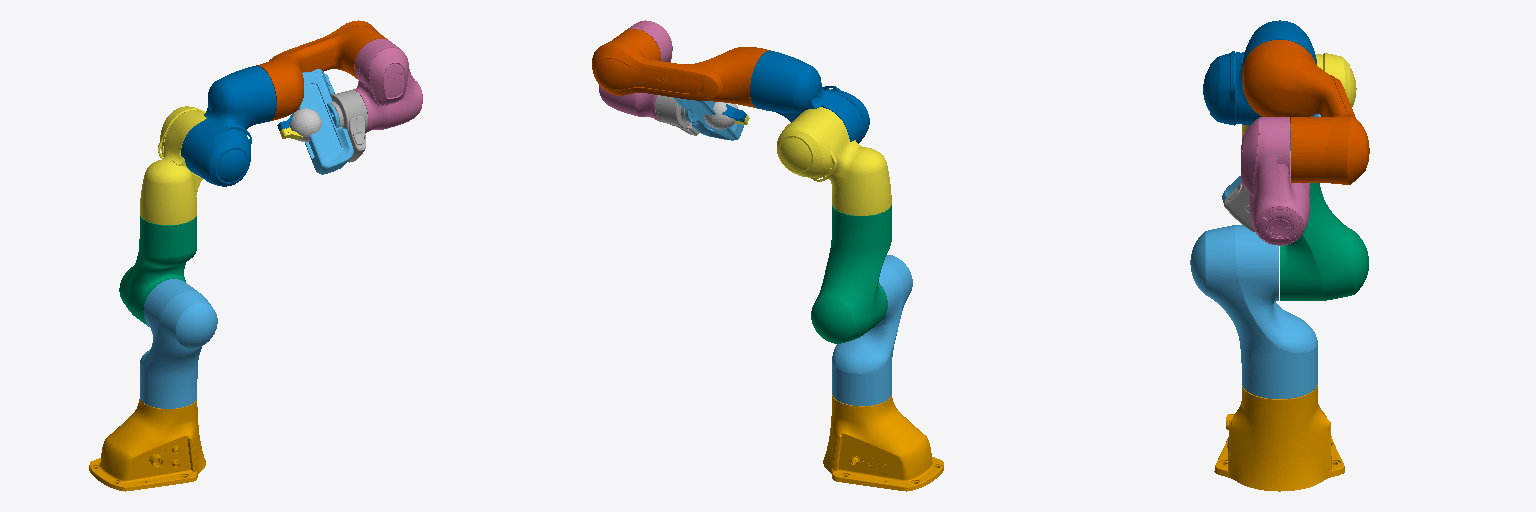
URDF robot description (panda):
<?xml version="1.0" ?>
<!-- =================================================================================== -->
<!-- |    This document was autogenerated by xacro from franka_ros/franka_description/robots/panda/panda.urdf.xacro | -->
<!-- |    EDITING THIS FILE BY HAND IS NOT RECOMMENDED                                 | -->
<!-- =================================================================================== -->
<robot name="panda" xmlns:xacro="http://www.ros.org/wiki/xacro">
    <link name="panda_link0">
        <visual>
            <geometry>
                <mesh filename="package://meshes/visual/link0.stl" />
            </geometry>
        </visual>
        <collision>
            <geometry>
                <mesh filename="package://meshes/collision/link0.stl" />
            </geometry>
        </collision>
        <inertial>
            <origin rpy="0 0 0" xyz="-0.041018 -0.00014 0.049974"/>
            <mass value="0.629769"/>
            <inertia ixx="0.00315" ixy="8.2904e-07" ixz="0.00015" iyy="0.00388" iyz="8.2299e-06" izz="0.004285"/>
        </inertial>
    </link>
    <link name="panda_link1">
        <visual>
            <geometry>
                <mesh filename="package://meshes/visual/link1.stl" />
            </geometry>
        </visual>
        <collision>
            <geometry>
                <mesh filename="package://meshes/collision/link1.stl" />
            </geometry>
        </collision>
        <inertial>
            <origin rpy="0 0 0" xyz="0.003875 0.002081 -0.04762"/>
            <mass value="4.970684"/>
            <inertia ixx="0.70337" ixy="-0.000139" ixz="0.006772" iyy="0.70661" iyz="0.019169" izz="0.009117"/>
        </inertial>
    </link>
    <joint name="panda_joint1" type="revolute">
        <origin rpy="0 0 0" xyz="0 0 0.333"/>
        <parent link="panda_link0"/>
        <child link="panda_link1"/>
        <axis xyz="0 0 1"/>
        <limit effort="87.0" lower="-2.8973" upper="2.8973" velocity="2.175"/>
        <safety_controller k_position="100.0" k_velocity="40.0" soft_lower_limit="-2.8973" soft_upper_limit="2.8973"/>
        <dynamics D="1" K="7000" damping="0.003" friction="0.0" mu_coulomb="0" mu_viscous="16"/>
    </joint>
    <link name="panda_link2">
        <visual>
            <geometry>
                <mesh filename="package://meshes/visual/link2.stl" />
            </geometry>
        </visual>
        <collision>
            <geometry>
                <mesh filename="package://meshes/collision/link2.stl" />
            </geometry>
        </collision>
        <inertial>
            <origin rpy="0 0 0" xyz="-0.003141 -0.02872  0.003495"/>
            <mass value="0.646926"/>
            <inertia ixx="0.007962" ixy="-0.003925" ixz="0.010254" iyy="0.02811" iyz="0.000704" izz="0.025995"/>
        </inertial>
    </link>
    <joint name="panda_joint2" type="revolute">
        <origin rpy="-1.5707963267948966 0 0" xyz="0 0 0"/>
        <parent link="panda_link1"/>
        <child link="panda_link2"/>
        <axis xyz="0 0 1"/>
        <limit effort="87.0" lower="-1.7628" upper="1.7628" velocity="2.175"/>
        <safety_controller k_position="100.0" k_velocity="40.0" soft_lower_limit="-1.7628" soft_upper_limit="1.7628"/>
        <dynamics D="1" K="7000" damping="0.003" friction="0.0" mu_coulomb="0" mu_viscous="16"/>
    </joint>
    <link name="panda_link3">
        <visual>
            <geometry>
                <mesh filename="package://meshes/visual/link3.stl" />
            </geometry>
        </visual>
        <collision>
            <geometry>
                <mesh filename="package://meshes/collision/link3.stl" />
            </geometry>
        </collision>
        <inertial>
            <origin rpy="0 0 0" xyz="2.7518e-02 3.9252e-02 -6.6502e-02"/>
            <mass value="3.228604"/>
            <inertia ixx="0.037242" ixy="-0.004761" ixz="-0.011396" iyy="0.036155" iyz="-0.012805" izz="0.01083"/>
        </inertial>
    </link>
    <joint name="panda_joint3" type="revolute">
        <origin rpy="1.5707963267948966 0 0" xyz="0 -0.316 0"/>
        <parent link="panda_link2"/>
        <child link="panda_link3"/>
        <axis xyz="0 0 1"/>
        <limit effort="87.0" lower="-2.8973" upper="2.8973" velocity="2.175"/>
        <safety_controller k_position="100.0" k_velocity="40.0" soft_lower_limit="-2.8973" soft_upper_limit="2.8973"/>
        <dynamics D="1" K="7000" damping="0.003" friction="0.0" mu_coulomb="0" mu_viscous="16"/>
    </joint>
    <link name="panda_link4">
        <visual>
            <geometry>
                <mesh filename="package://meshes/visual/link4.stl"/>
            </geometry>
        </visual>
        <collision>
            <geometry>
                <mesh filename="package://meshes/collision/link4.stl"/>
            </geometry>
        </collision>
        <inertial>
            <origin rpy="0 0 0" xyz="-5.317e-02 1.04419e-01 2.7454e-02"/>
            <mass value="3.587895"/>
            <inertia ixx="0.025853" ixy="0.007796" ixz="-0.001332" iyy="0.019552" iyz="0.008641" izz="0.028323"/>
        </inertial>
    </link>
    <joint name="panda_joint4" type="revolute">
        <origin rpy="1.5707963267948966 0 0" xyz="0.0825 0 0"/>
        <parent link="panda_link3"/>
        <child link="panda_link4"/>
        <axis xyz="0 0 1"/>
        <limit effort="87.0" lower="-3.0718" upper="-0.0698" velocity="2.175"/>
        <safety_controller k_position="100.0" k_velocity="40.0" soft_lower_limit="-3.0718" soft_upper_limit="-0.0698"/>
        <dynamics D="1" K="7000" damping="0.003" friction="0.0" mu_coulomb="0" mu_viscous="16"/>
    </joint>
    <link name="panda_link5">
        <visual>
            <geometry>
                <mesh filename="package://meshes/visual/link5.stl" />
            </geometry>
        </visual>
        <collision>
            <geometry>
                <mesh filename="package://meshes/collision/link5.stl" />
            </geometry>
        </collision>
        <inertial>
            <origin rpy="0 0 0" xyz="-1.1953e-02 4.1065e-02 -3.8437e-02"/>
            <mass value="1.225946"/>
            <inertia ixx="0.035549" ixy="-0.002117" ixz="-0.004037" iyy="0.029474" iyz="0.000229" izz="0.008627"/>
        </inertial>
    </link>
    <joint name="panda_joint5" type="revolute">
        <origin rpy="-1.5707963267948966 0 0" xyz="-0.0825 0.384 0"/>
        <parent link="panda_link4"/>
        <child link="panda_link5"/>
        <axis xyz="0 0 1"/>
        <limit effort="12.0" lower="-2.8973" upper="2.8973" velocity="2.61"/>
        <safety_controller k_position="100.0" k_velocity="40.0" soft_lower_limit="-2.8973" soft_upper_limit="2.8973"/>
        <dynamics D="1" K="7000" damping="0.003" friction="0.0" mu_coulomb="0" mu_viscous="16"/>
    </joint>
    <link name="panda_link6">
        <visual>
            <geometry>
                <mesh filename="package://meshes/visual/link6.stl" />
            </geometry>
        </visual>
        <collision>
            <geometry>
                <mesh filename="package://meshes/collision/link6.stl" />
            </geometry>
        </collision>
        <inertial>
            <origin rpy="0 0 0" xyz="6.0149e-02 -1.4117e-02 -1.0517e-02"/>
            <mass value="1.666555"/>
            <inertia ixx="0.001964" ixy="0.000109" ixz="-0.001158" iyy="0.004354" iyz="0.000341" izz="0.005433"/>
        </inertial>
    </link>
    <joint name="panda_joint6" type="revolute">
        <origin rpy="1.5707963267948966 0 0" xyz="0 0 0"/>
        <parent link="panda_link5"/>
        <child link="panda_link6"/>
        <axis xyz="0 0 1"/>
        <limit effort="12.0" lower="-0.0175" upper="3.7525" velocity="2.61"/>
        <safety_controller k_position="100.0" k_velocity="40.0" soft_lower_limit="-0.0175" soft_upper_limit="3.7525"/>
        <dynamics D="1" K="7000" damping="0.003" friction="0.0" mu_coulomb="0" mu_viscous="16"/>
    </joint>
    <link name="panda_link7">
        <visual>
            <geometry>
                <mesh filename="package://meshes/visual/link7.stl" />
            </geometry>
        </visual>
        <collision>
            <geometry>
                <mesh filename="package://meshes/collision/link7.stl" />
            </geometry>
        </collision>
        <inertial>
            <origin rpy="0 0 0" xyz="1.0517e-02 -4.252e-03 6.1597e-02"/>
            <mass value="0.735522"/>
            <inertia ixx="0.012516" ixy="-0.000428" ixz="-0.001196" iyy="0.010027" iyz="-0.000741" izz="0.004815"/>
        </inertial>
    </link>
    <joint name="panda_joint7" type="revolute">
        <origin rpy="1.5707963267948966 0 0" xyz="0.088 0 0"/>
        <parent link="panda_link6"/>
        <child link="panda_link7"/>
        <axis xyz="0 0 1"/>
        <limit effort="12.0" lower="-2.8973" upper="2.8973" velocity="2.61"/>
        <safety_controller k_position="100.0" k_velocity="40.0" soft_lower_limit="-2.8973" soft_upper_limit="2.8973"/>
        <dynamics D="1" K="7000" damping="0.003" friction="0.0" mu_coulomb="0" mu_viscous="16"/>
    </joint>
    <link name="panda_link8">
        <inertial>
          <mass value="0"/>
          <origin rpy="0 0 0" xyz="0 0 0"/>
          <inertia ixx="0" ixy="0" ixz="0" iyy="0" iyz="0" izz="0"/>
        </inertial>
    </link>
    <joint name="panda_joint8" type="fixed">
        <origin rpy="0 0 0" xyz="0 0 0.107"/>
        <parent link="panda_link7"/>
        <child link="panda_link8"/>
    </joint>
    <joint name="panda_hand_joint" type="fixed">
        <parent link="panda_link8"/>
        <child link="panda_hand"/>
        <origin rpy="0 0 -0.7853981633974483" xyz="0 0 0"/>
    </joint>
    <link name="panda_hand">
        <visual>
            <geometry>
                <mesh filename="package://meshes/visual/hand.stl" />
            </geometry>
        </visual>
        <collision>
            <geometry>
                <mesh filename="package://meshes/collision/hand.stl" />
            </geometry>
        </collision>
        <inertial>
            <origin rpy="0 0 0" xyz="-0.01 0 0.03"/>
            <mass value="0.73"/>
            <inertia ixx="0.001" ixy="0" ixz="0" iyy="0.0025" iyz="0" izz="0.0017"/>
        </inertial>
    </link>
    <!-- Define the hand_tcp frame -->
    <link name="panda_hand_tcp">
	<inertial>
          <mass value="0"/>
          <origin rpy="0 0 0" xyz="0 0 0"/>
          <inertia ixx="0" ixy="0" ixz="0" iyy="0" iyz="0" izz="0"/>
        </inertial>
    </link>
    <joint name="panda_hand_tcp_joint" type="fixed">
        <origin rpy="0 0 0" xyz="0 0 0.1034"/>
        <parent link="panda_hand"/>
        <child link="panda_hand_tcp"/>
    </joint>
    <link name="panda_leftfinger">
        <visual>
            <geometry>
                <mesh filename="package://meshes/visual/finger.stl" />
            </geometry>
        </visual>
        <!-- screw mount -->
        <collision>
            <origin rpy="0 0 0" xyz="0 18.5e-3 11e-3"/>
            <geometry>
                <box size="22e-3 15e-3 20e-3"/>
            </geometry>
        </collision>
        <!-- cartriage sledge -->
        <collision>
            <origin rpy="0 0 0" xyz="0 6.8e-3 2.2e-3"/>
            <geometry>
                <box size="22e-3 8.8e-3 3.8e-3"/>
            </geometry>
        </collision>
        <!-- diagonal finger -->
        <collision>
            <origin rpy="0.5235987755982988 0 0" xyz="0 15.9e-3 28.35e-3"/>
            <geometry>
                <box size="17.5e-3 7e-3 23.5e-3"/>
            </geometry>
        </collision>
        <!-- rubber tip with which to grasp -->
        <collision>
            <origin rpy="0 0 0" xyz="0 7.58e-3 45.25e-3"/>
            <geometry>
                <box size="17.5e-3 15.2e-3 18.5e-3"/>
            </geometry>
        </collision>
        <inertial>
            <origin rpy="0 0 0" xyz="0 0 0"/>
            <mass value="0.015"/>
            <inertia ixx="2.3749999999999997e-06" ixy="0" ixz="0" iyy="2.3749999999999997e-06" iyz="0" izz="7.5e-07"/>
        </inertial>
    </link>
    <link name="panda_rightfinger">
        <visual>
            <origin rpy="0 0 3.141592653589793" xyz="0 0 0"/>
            <geometry>
                <mesh filename="package://meshes/visual/finger.stl" />
            </geometry>
        </visual>
        <!-- screw mount -->
        <collision>
            <origin rpy="0 0 0" xyz="0 -18.5e-3 11e-3"/>
            <geometry>
                <box size="22e-3 15e-3 20e-3"/>
            </geometry>
        </collision>
        <!-- cartriage sledge -->
        <collision>
            <origin rpy="0 0 0" xyz="0 -6.8e-3 2.2e-3"/>
            <geometry>
                <box size="22e-3 8.8e-3 3.8e-3"/>
            </geometry>
        </collision>
        <!-- diagonal finger -->
        <collision>
            <origin rpy="-0.5235987755982988 0 0" xyz="0 -15.9e-3 28.35e-3"/>
            <geometry>
                <box size="17.5e-3 7e-3 23.5e-3"/>
            </geometry>
        </collision>
        <!-- rubber tip with which to grasp -->
        <collision>
            <origin rpy="0 0 0" xyz="0 -7.58e-3 45.25e-3"/>
            <geometry>
                <box size="17.5e-3 15.2e-3 18.5e-3"/>
            </geometry>
        </collision>
        <inertial>
            <origin rpy="0 0 0" xyz="0 0 0"/>
            <mass value="0.015"/>
            <inertia ixx="2.3749999999999997e-06" ixy="0" ixz="0" iyy="2.3749999999999997e-06" iyz="0" izz="7.5e-07"/>
        </inertial>
    </link>
    <joint name="panda_finger_joint1" type="prismatic">
        <parent link="panda_hand"/>
        <child link="panda_leftfinger"/>
        <origin rpy="0 0 0" xyz="0 0 0.0584"/>
        <axis xyz="0 1 0"/>
        <limit effort="100" lower="0.0" upper="0.04" velocity="0.2"/>
        <dynamics damping="0.3"/>
    </joint>
    <joint name="panda_finger_joint2" type="prismatic">
        <parent link="panda_hand"/>
        <child link="panda_rightfinger"/>
        <origin rpy="0 0 0" xyz="0 0 0.0584"/>
        <axis xyz="0 -1 0"/>
        <limit effort="100" lower="0.0" upper="0.04" velocity="0.2"/>
        <mimic joint="panda_finger_joint1"/>
        <dynamics damping="0.3"/>
    </joint>

      <!-- CONTACT (modeled by a tennis ball) -->
    <link name="contact">
        <inertial>
        <origin rpy="0 0 0" xyz="0 0 0.0"/>
        <mass value="0.057"/>
        <inertia ixx="0.0000354" ixy="0.0" ixz="0.0" iyy="0.0000354" iyz="0.0" izz="0.0000354"/>
        </inertial>
        <visual>
        <origin rpy="0 0 0" xyz="0 0 0"/>
        <geometry>
            <sphere radius="0.0325"/>
        </geometry>
        <material name="grey">
            <color rgba="0.8 0.8 0.8 1.0"/>
        </material>
        </visual>
        <collision>
        <origin rpy="0 0 0" xyz="0 0 0"/>
        <geometry>
            <sphere radius="0.0325"/>
        </geometry>
        <material name="grey">
            <color rgba="0.8 0.8 0.8 1.0"/>
        </material>
        </collision>
        <!-- Bullet specific paramters -->
        <contact>
            <lateral_friction value="1.0"/>
            <restitution value="0.5"/>
        </contact>
    </link>

    <joint name="panda_contact_joint" type="fixed">
        <parent link="panda_hand"/>
        <child link="contact"/>
        <origin rpy="0 0 0" xyz="0 0 0.0584"/>
    </joint>
</robot>

--- What the picture shows (computed from the rendered views, not written in the file) ---
Views: 3 orthographic renders of the robot side by side, from view 1: azimuth 30°, elevation 25°; view 2: azimuth 150°, elevation 25°; view 3: azimuth 270°, elevation 25°.
Robot: panda — 14 links, 13 joints (7 revolute, 2 prismatic, 4 fixed); root link panda_link0; default pose: all joints at 0 but 1 set to mid-range because 0 is outside their limits (panda_joint4 = -1.57).
Visible links, largest first — view 1: panda_link0, panda_link1, panda_link4, panda_link3, panda_link5, panda_link6, panda_link2, panda_hand, panda_link7, contact; view 2: panda_link0, panda_link5, panda_link2, panda_link3, panda_link1, panda_link4, panda_link6, panda_hand, panda_link7; view 3: panda_link1, panda_link5, panda_link0, panda_link2, panda_link6, panda_link4, panda_link3, panda_link7.
Link boxes in pixels (x1,y1,x2,y2): panda_link0: [89, 399, 205, 491]; panda_link1: [140, 279, 217, 408]; panda_link4: [181, 66, 276, 186]; panda_link3: [140, 106, 206, 224]; panda_link5: [256, 20, 387, 121]; panda_link6: [353, 39, 422, 133]; panda_link2: [119, 216, 196, 326]; panda_hand: [298, 69, 353, 174]; panda_link7: [330, 90, 367, 162]; contact: [289, 108, 321, 141]; panda_link0: [823, 395, 943, 491]; panda_link5: [592, 29, 770, 107]; panda_link2: [811, 205, 891, 343]; panda_link3: [777, 107, 891, 215]; panda_link1: [832, 255, 912, 405]; panda_link4: [750, 51, 869, 143]; panda_link6: [599, 20, 672, 121]; panda_hand: [673, 97, 743, 140]; panda_link7: [655, 95, 698, 135]; panda_link1: [1190, 225, 1317, 398]; panda_link5: [1242, 40, 1369, 184]; panda_link0: [1214, 385, 1344, 491]; panda_link2: [1280, 183, 1368, 300]; panda_link6: [1241, 117, 1309, 245]; panda_link4: [1203, 20, 1316, 125]; panda_link3: [1242, 53, 1356, 137]; panda_link7: [1224, 151, 1309, 231].
Size in the robot's own frame: 0.7022 by 0.2593 by 0.7865 metres.
Meshes: 10 distinct files referenced, 11 mesh visuals loaded (10 binary STL).
